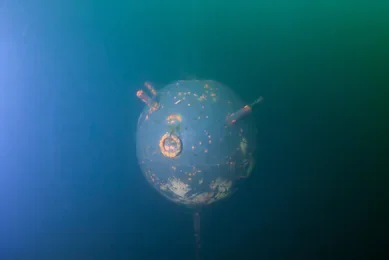Mines: (133, 73, 275, 211)
